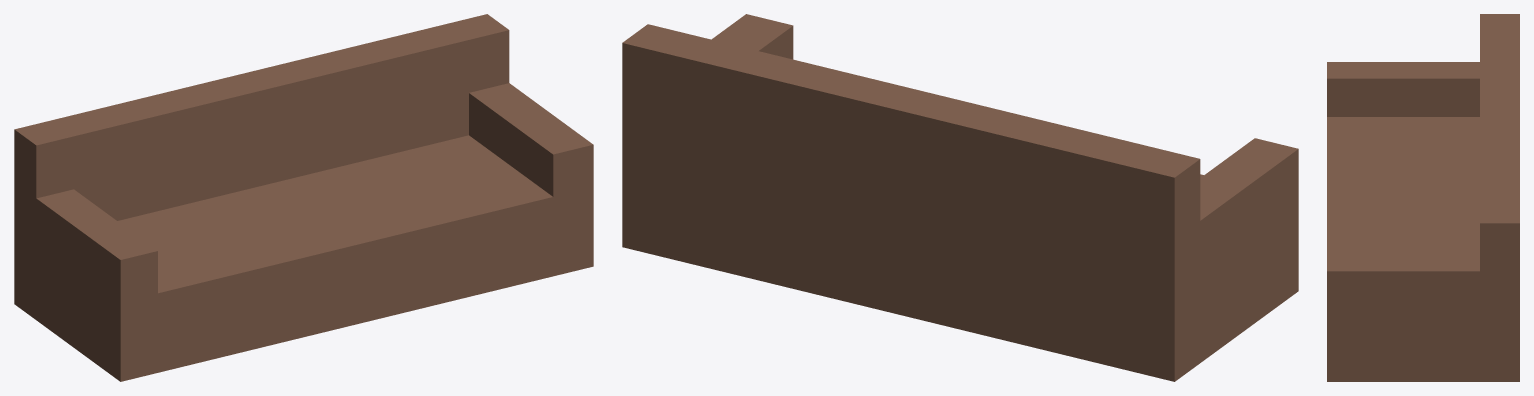
The model's file is Sofa.fbx.
3 renders of one model, left to right at view 1: azimuth 30°, elevation 25°; view 2: azimuth 150°, elevation 25°; view 3: azimuth 270°, elevation 25°, orthographic. The views are drawn at different scales.
Visible parts, largest first — view 1: Temp_Sofa; view 2: Temp_Sofa; view 3: Temp_Sofa.
Boxes of the visible parts, x1,y1,x2,y2 form: Temp_Sofa: (14, 14, 593, 381); Temp_Sofa: (622, 14, 1298, 381); Temp_Sofa: (1327, 14, 1519, 381).
Bounding box in the file's own units: 900 × 318 × 350.
